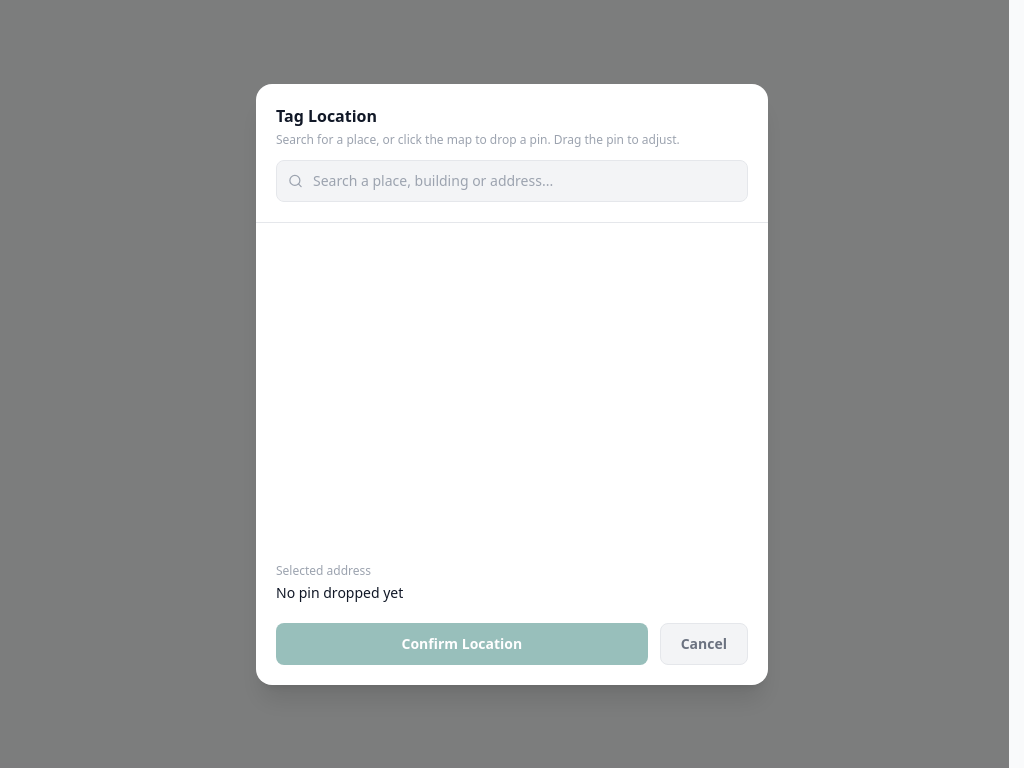
Scenario: LocationPicker place search › does not search for a one-character query and shows an empty state for no matches
Type "K" into the field with placeholder "Search a place, building or address...".
click(512, 180); type("K")  # box 276,160 -> 748,202
Wait 500 ms
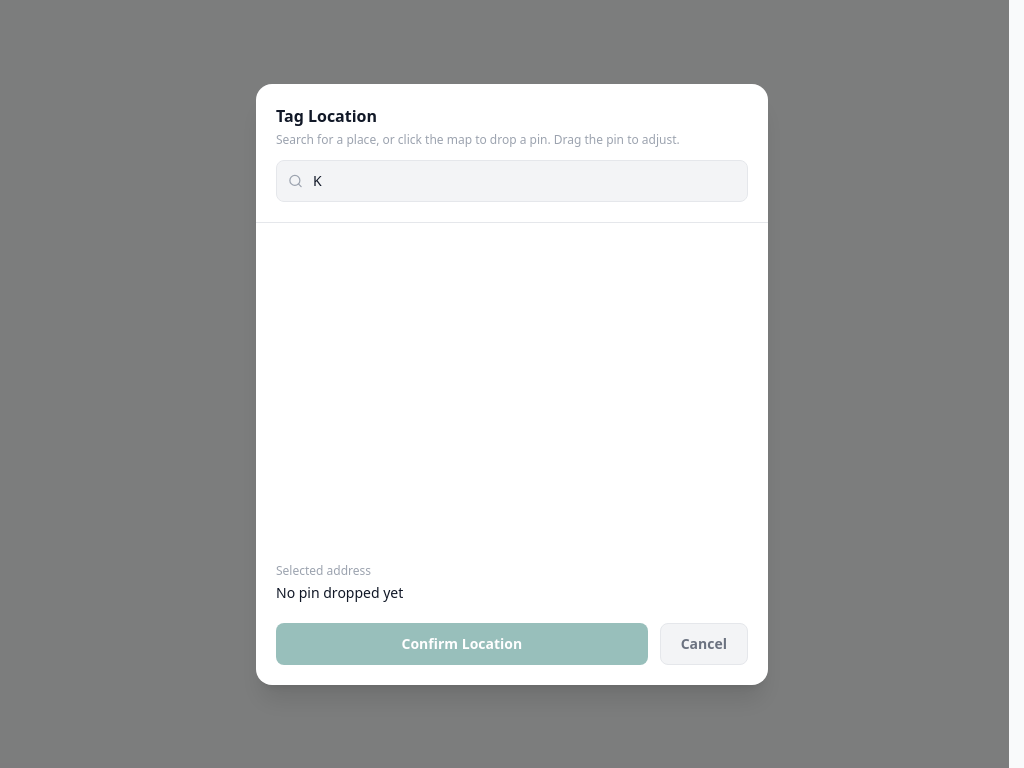
Replace the text in the field with placeholder "Search a place, building or address..." with "KL" at x=512, y=180, box 276,160 -> 748,202
Wait 300 ms
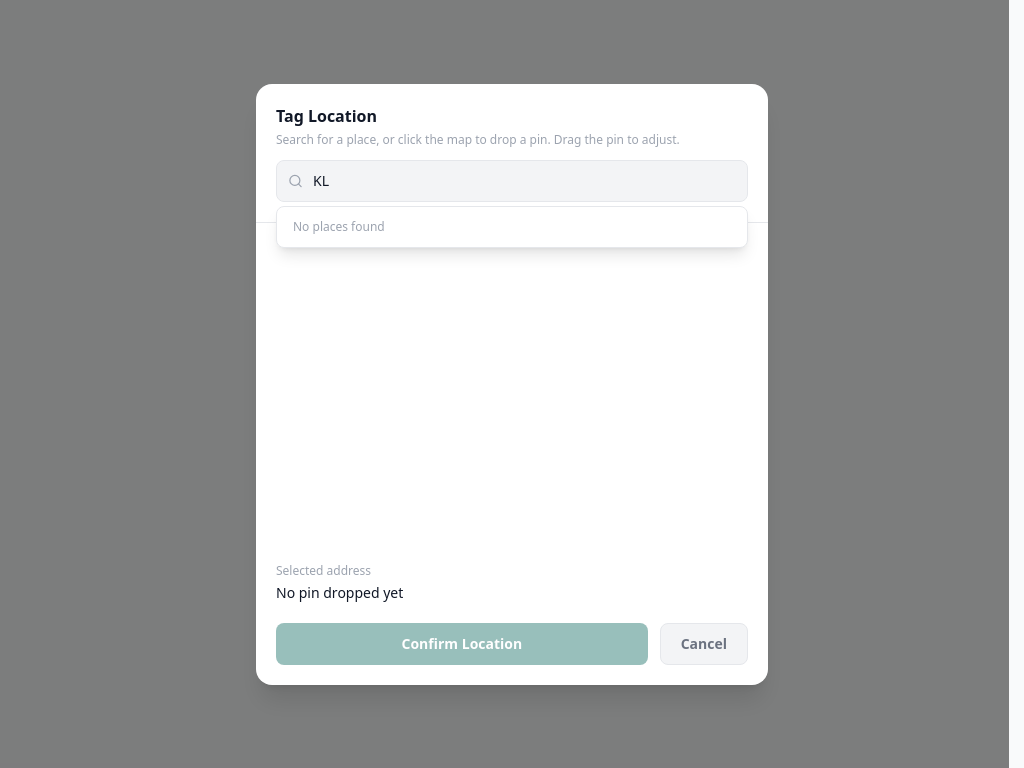
expect the list item "No places found" is shown: met, box 293,218 -> 385,234
